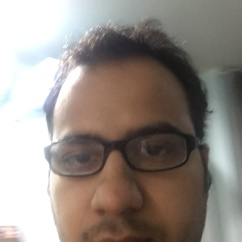glasses: (46, 134, 199, 172)
